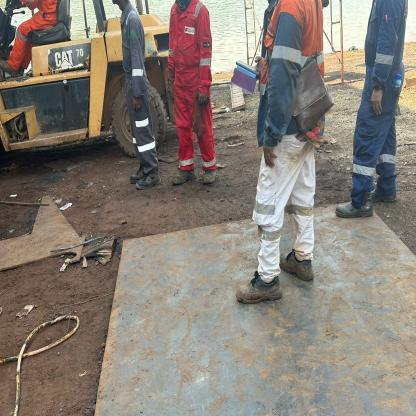bota: (234, 268, 282, 308), (278, 244, 312, 282), (330, 197, 373, 219), (366, 184, 399, 208), (131, 166, 163, 190), (168, 166, 199, 188), (0, 58, 20, 78), (198, 166, 218, 185), (131, 165, 148, 183)
